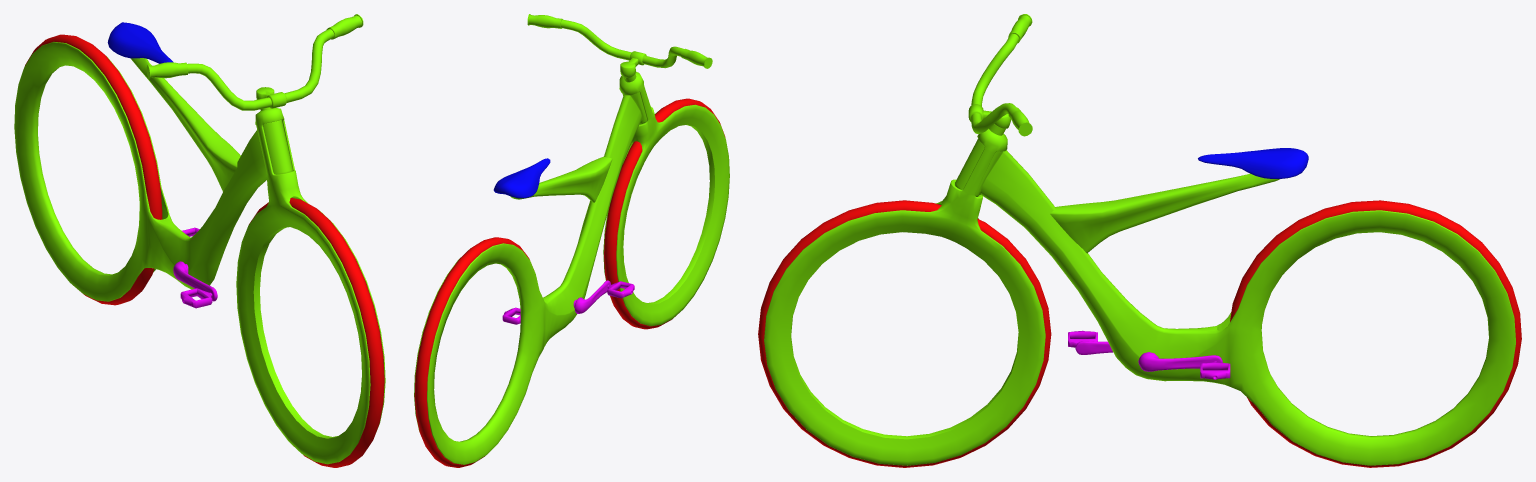
The model's file is Velo_07_Guidon_Indépendant.FBX.
3 views of the same model, side by side, from view 1: azimuth 30°, elevation 25°; view 2: azimuth 150°, elevation 25°; view 3: azimuth 270°, elevation 25° (orthographic). The views are drawn at different scales.
Parts seen in each view (by area): view 1: Velo, Cadre_Roue_Avant, O_Pneu_Avant, O_Pneu_Arriere, Guidon, O_Pedale-D; view 2: Velo, Cadre_Roue_Avant, O_Pneu_Arriere, O_Pneu_Avant, Guidon, O_Pedale-D; view 3: Velo, Cadre_Roue_Avant, O_Pneu_Avant, O_Pneu_Arriere, Guidon, O_Levier-D001+PedaleG, O_Pedale-D.
Part boxes in pixels (bbox=[...]): Velo: bbox=[14, 22, 292, 301]; Cadre_Roue_Avant: bbox=[236, 107, 385, 464]; O_Pneu_Avant: bbox=[249, 198, 384, 467]; O_Pneu_Arriere: bbox=[25, 34, 162, 305]; Guidon: bbox=[146, 14, 363, 110]; O_Pedale-D: bbox=[173, 261, 217, 308]; Velo: bbox=[414, 92, 647, 464]; Cadre_Roue_Avant: bbox=[603, 71, 729, 326]; O_Pneu_Arriere: bbox=[414, 237, 529, 467]; O_Pneu_Avant: bbox=[604, 98, 725, 329]; Guidon: bbox=[527, 14, 712, 78]; O_Pedale-D: bbox=[573, 280, 634, 313]; Velo: bbox=[955, 139, 1515, 465]; Cadre_Roue_Avant: bbox=[764, 124, 1045, 465]; O_Pneu_Avant: bbox=[758, 200, 1051, 467]; O_Pneu_Arriere: bbox=[1230, 200, 1521, 467]; Guidon: bbox=[968, 14, 1032, 136]; O_Levier-D001+PedaleG: bbox=[1138, 352, 1230, 379]; O_Pedale-D: bbox=[1068, 330, 1112, 354].
Bounding box in the file's own units: 52.48 × 88.48 × 153.
